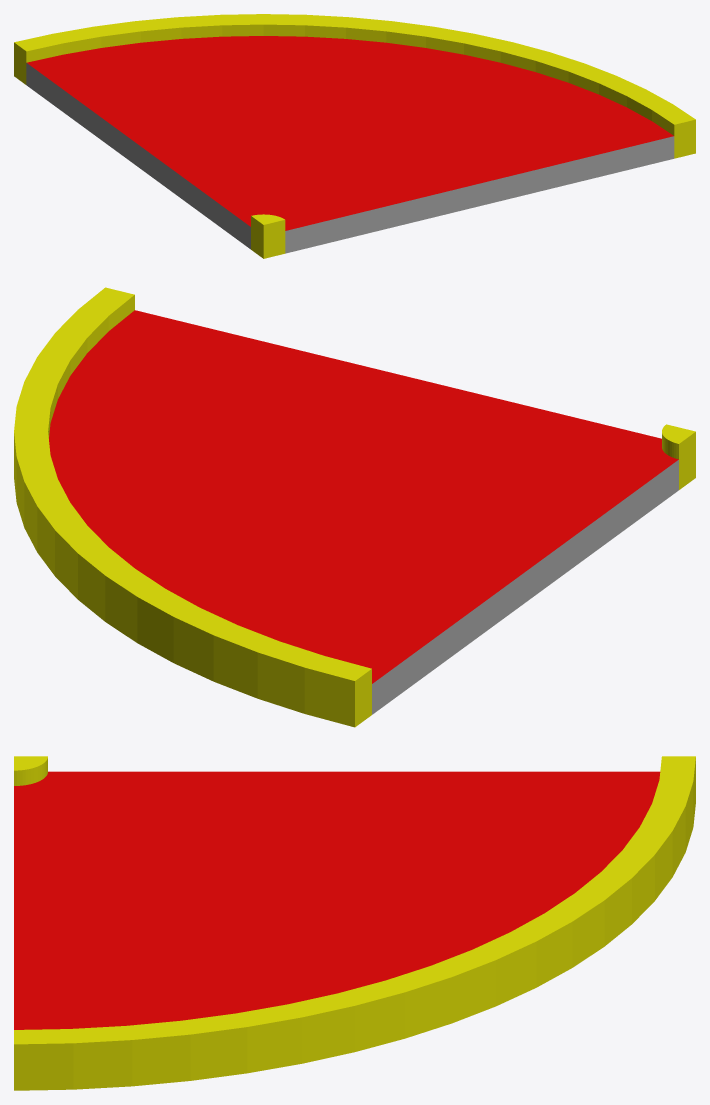
File: UV_TRI_WalkwayCorner_2Rims_2x2_DTG.fbx
3 renders of one model, top to bottom at view 1: azimuth 30°, elevation 25°; view 2: azimuth 150°, elevation 25°; view 3: azimuth 270°, elevation 25°, orthographic. The views are drawn at different scales.
Visible parts, largest first — view 1: WalkwayCorner_NoRim; view 2: WalkwayCorner_NoRim; view 3: WalkwayCorner_NoRim.
Boxes of the visible parts, x1,y1,x2,y2 form: WalkwayCorner_NoRim: [14, 14, 695, 258]; WalkwayCorner_NoRim: [14, 287, 695, 727]; WalkwayCorner_NoRim: [14, 756, 695, 1090].
Bounding box in the file's own units: 2 × 0.15 × 2.
